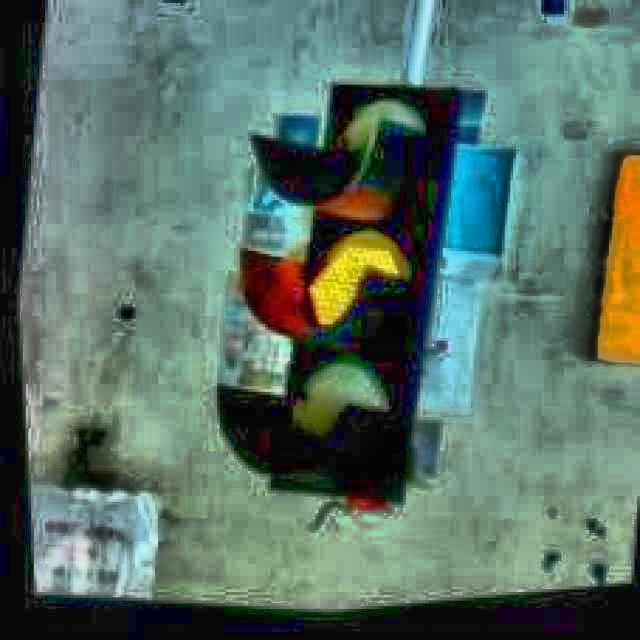yellow: (280, 75, 454, 504)
